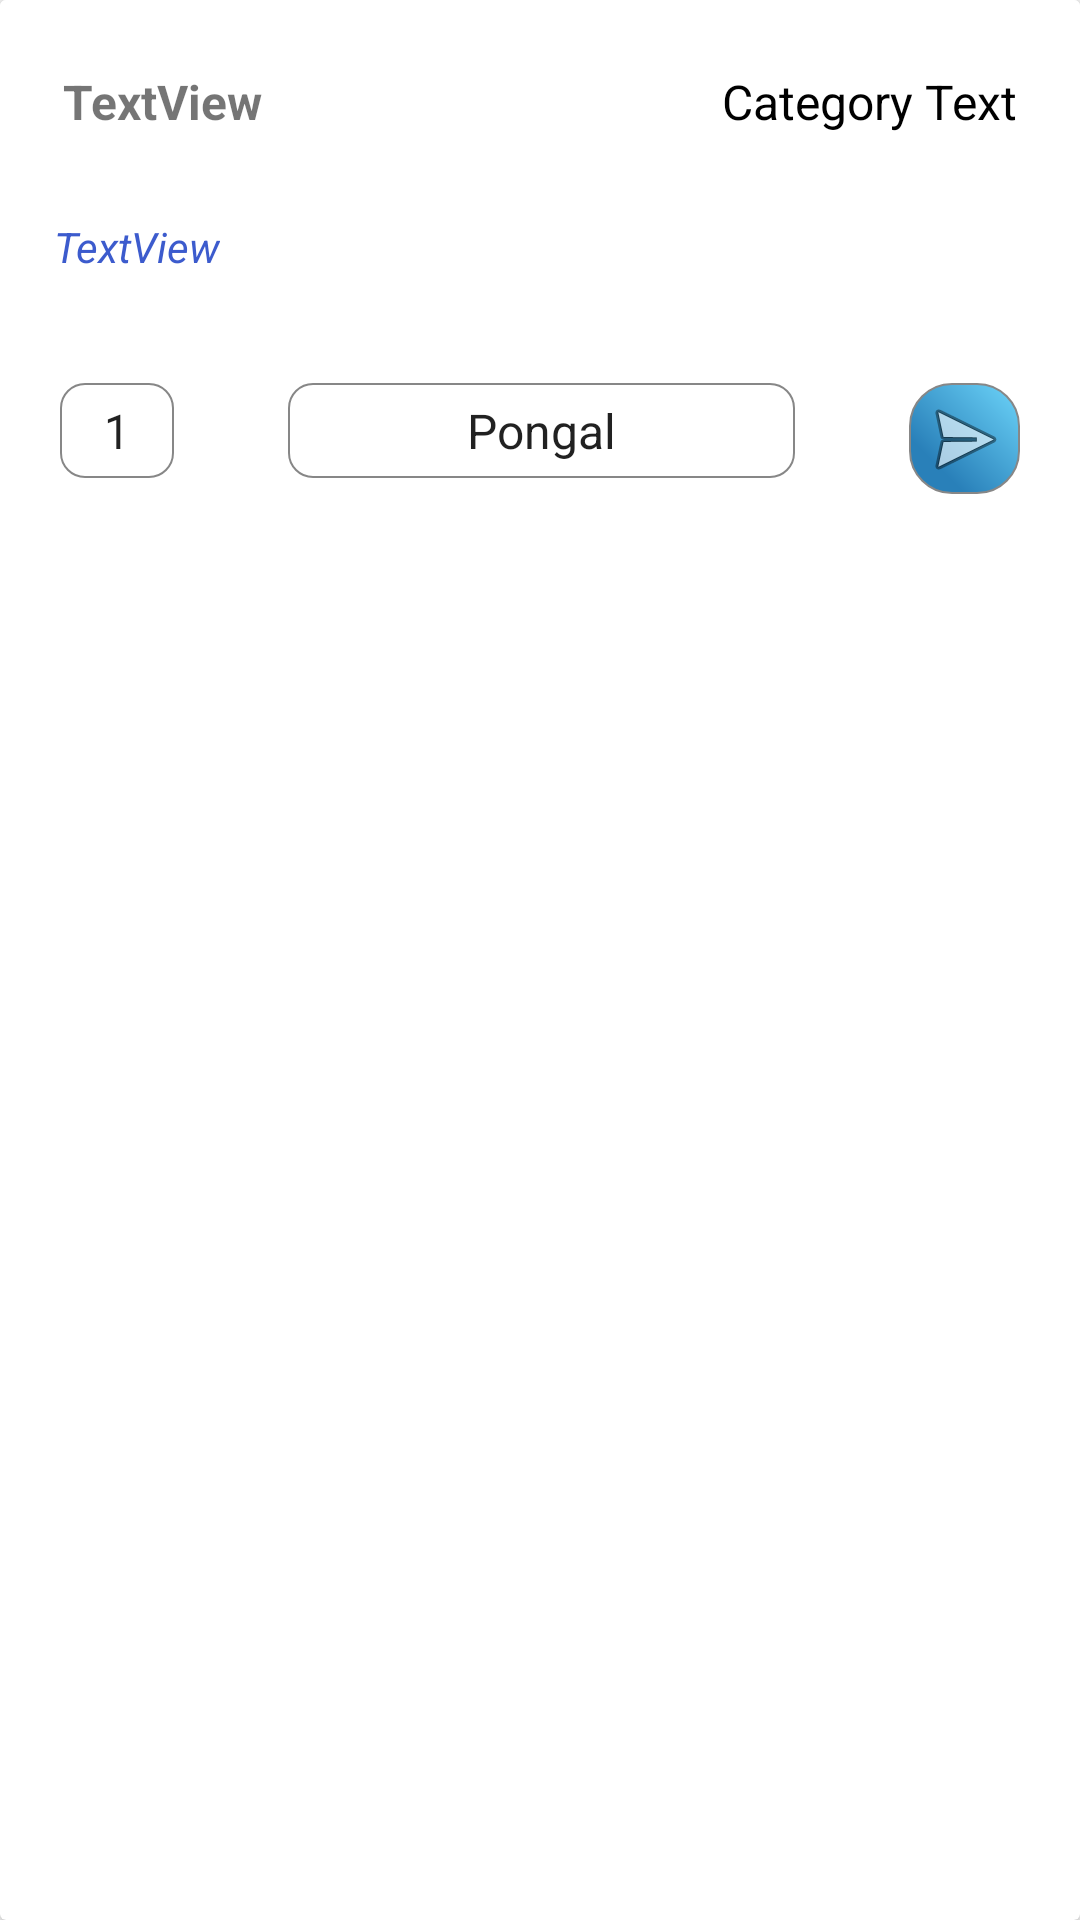

Where icons sit on this 1080w x 1920h app screen, as (x1, y1, x2, y2):
send: (909, 383, 1020, 494)
